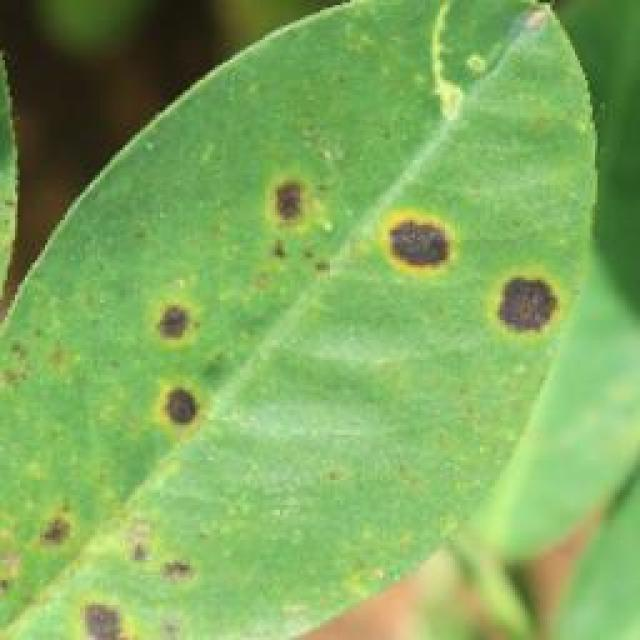Sigatoka: (20, 498, 200, 640), (232, 137, 349, 270), (125, 266, 209, 448), (461, 223, 563, 358), (346, 190, 448, 296)
